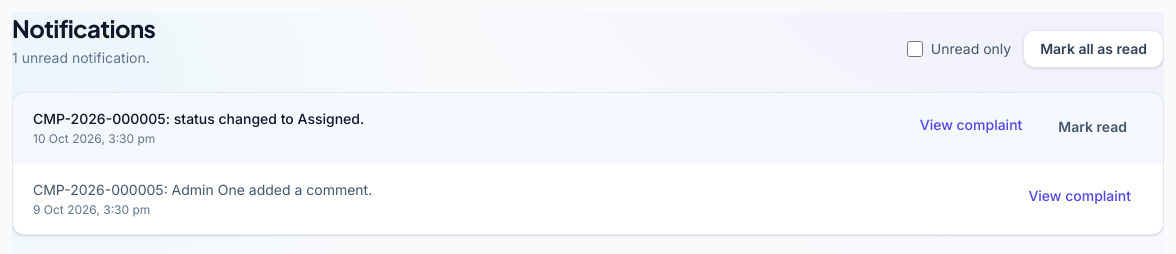
Test: marks a single notification as read and notifies the bell
The width and height of the screenshot is (1176, 254).
Click the button "Mark read".
click(1093, 127)  # box [1042,109,1143,145]
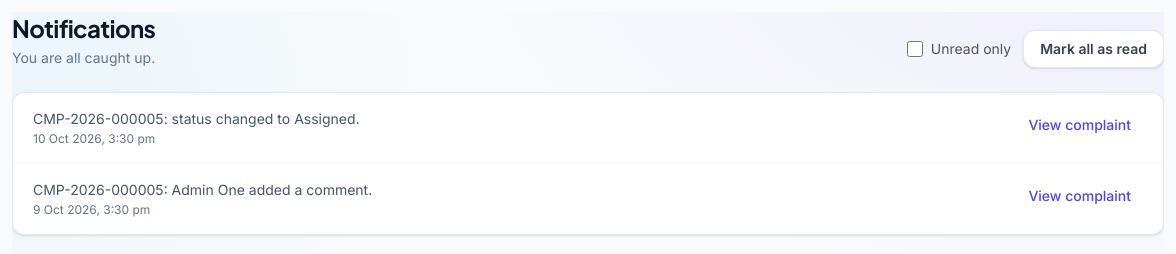
Result: the text "You are all caught up." is shown at [12,48,155,68]
